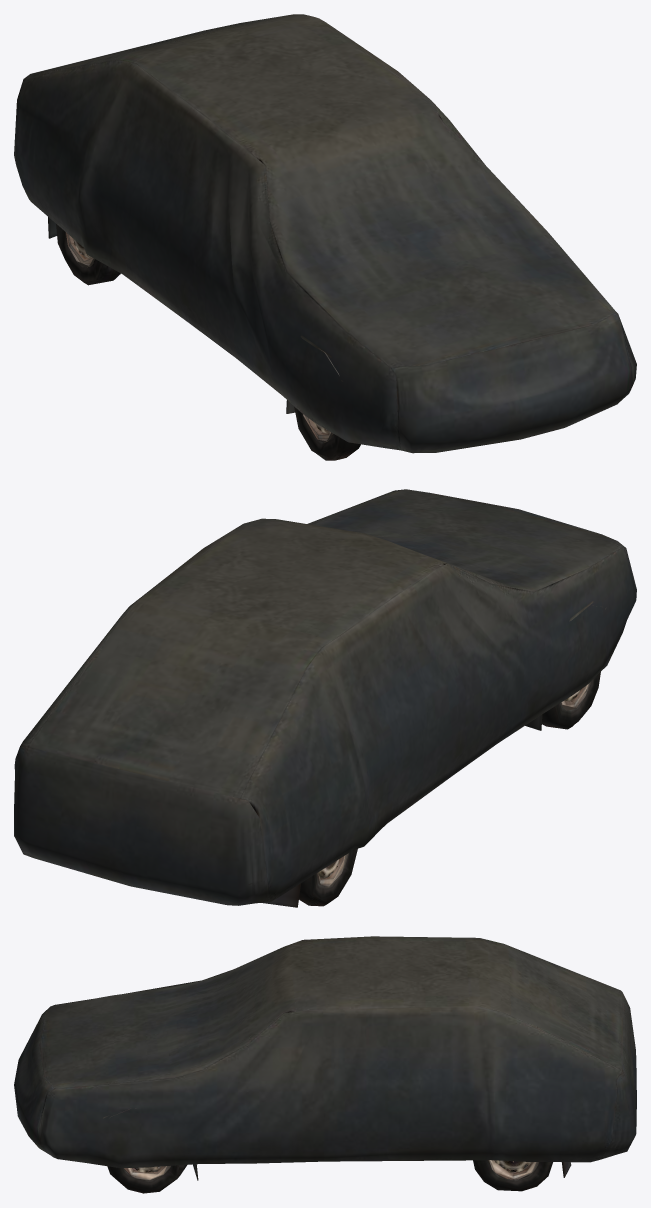
The model's file is covered_car.gltf.
3 renders of one model, top to bottom at view 1: azimuth 30°, elevation 25°; view 2: azimuth 150°, elevation 25°; view 3: azimuth 270°, elevation 25°, orthographic. The views are drawn at different scales.
Size of the model in its own units: 1.78 by 1.39 by 4.38.
1 material, 1 textured.
